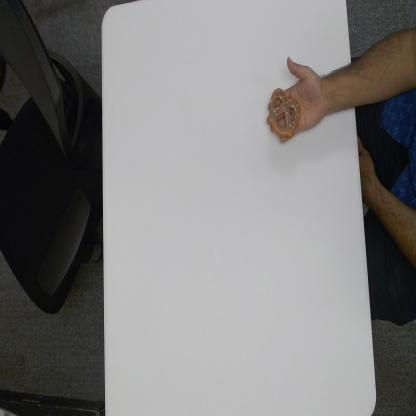Hand: (284, 53, 338, 138)
Pretzel: (266, 86, 299, 138)
